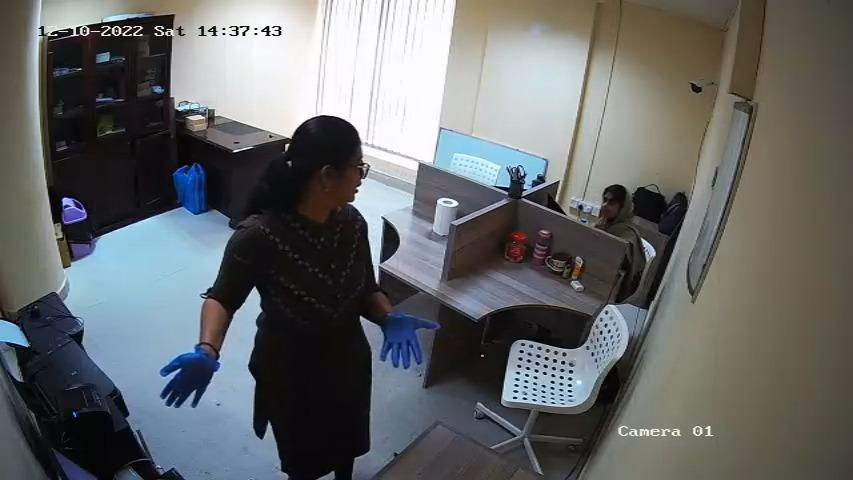gloves: (154, 347, 224, 408), (376, 307, 439, 372)
